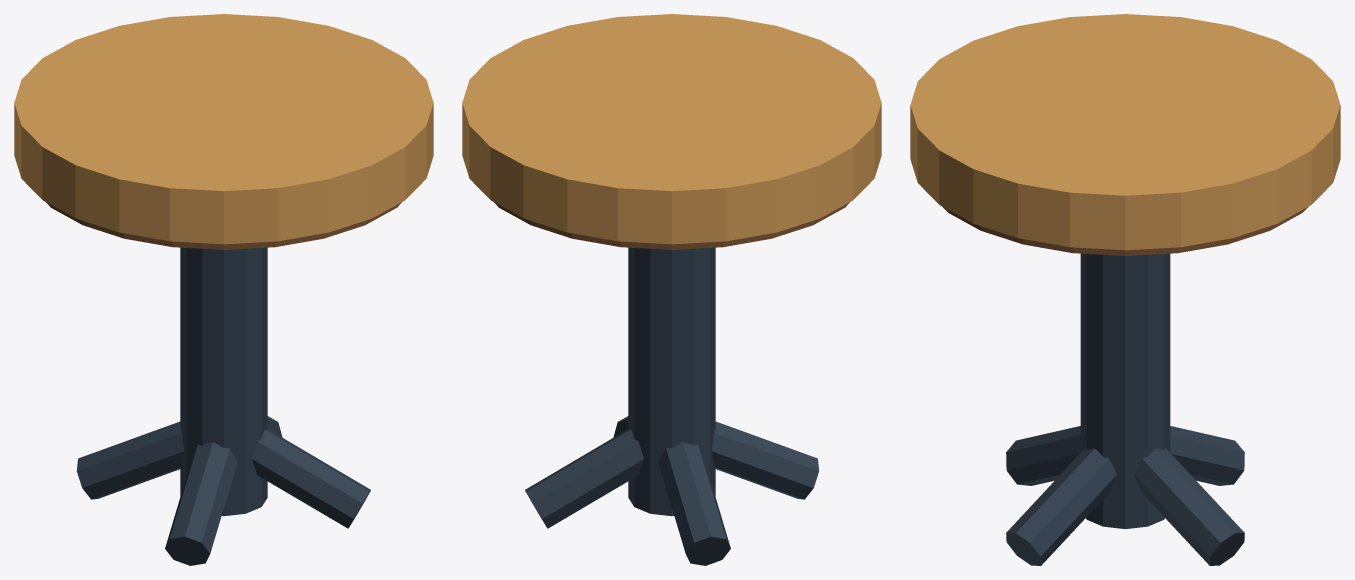
The model's file is table_side.glb.
3 renders of one model, left to right at view 1: azimuth 30°, elevation 25°; view 2: azimuth 150°, elevation 25°; view 3: azimuth 270°, elevation 25°, orthographic. The views are drawn at different scales.
Parts seen in each view (by area): view 1: table_side__oak_top, table_side__metal, table_side__oak_dark; view 2: table_side__oak_top, table_side__metal, table_side__oak_dark; view 3: table_side__oak_top, table_side__metal, table_side__oak_dark.
Boxes of the visible parts, x1=… form: table_side__oak_top: x1=14, y1=14, x2=433, y2=244; table_side__metal: x1=77, y1=247, x2=370, y2=565; table_side__oak_dark: x1=46, y1=202, x2=401, y2=249; table_side__oak_top: x1=462, y1=14, x2=881, y2=244; table_side__metal: x1=525, y1=247, x2=818, y2=565; table_side__oak_dark: x1=494, y1=202, x2=849, y2=249; table_side__oak_top: x1=910, y1=14, x2=1340, y2=250; table_side__metal: x1=1006, y1=253, x2=1244, y2=565; table_side__oak_dark: x1=943, y1=207, x2=1307, y2=255.
Size of the model in its own units: 0.5 by 0.54 by 0.5.
